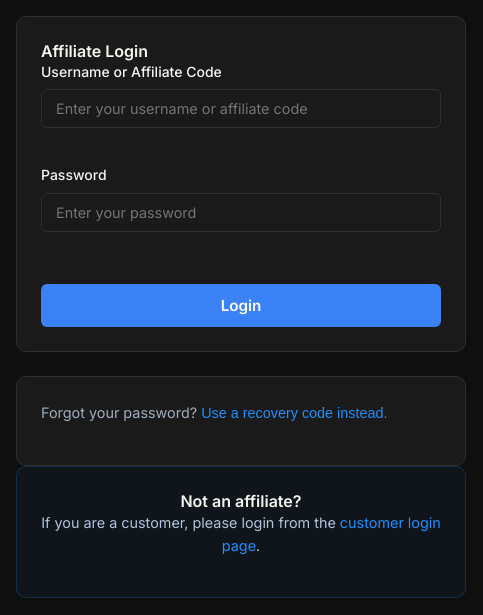
Test: affiliate.jsx — Affiliate Login Page › login form › sets loading state on submit
This screenshot has width=483, height=615.
Type "testuser" into the field with placeholder "Enter your username or affiliate code" at (241, 109), box [41, 89, 441, 128]
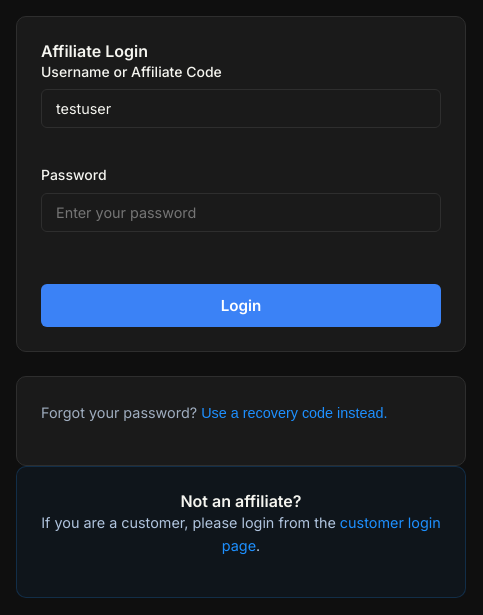
Type "testpass" into the password field with placeholder "Enter your password" at (241, 212), box [41, 193, 441, 232]
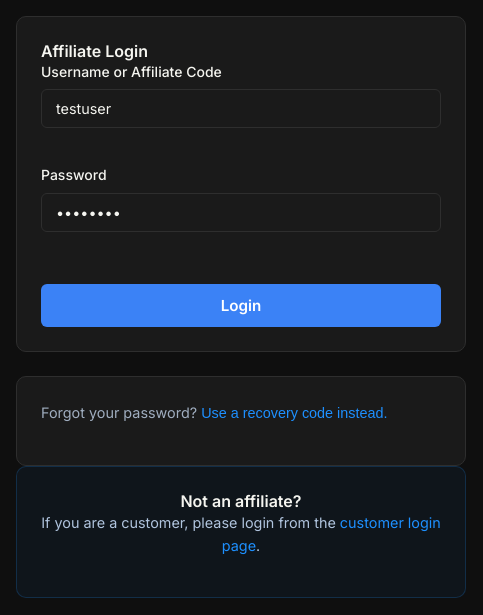
Click the button "Login" at (241, 305), box [41, 284, 441, 327]
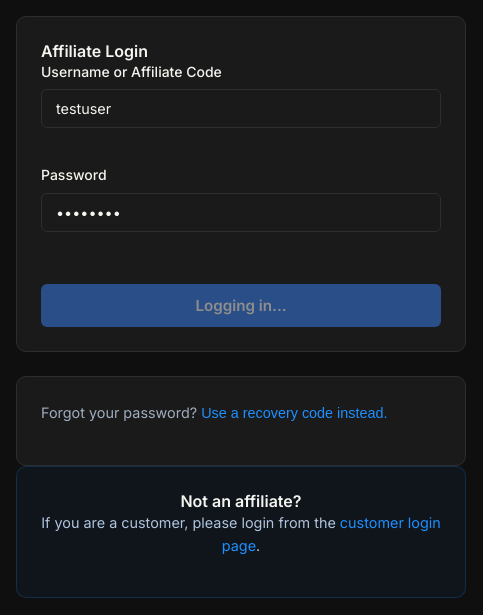
Expected: the button "Logging in..." is shown, [41, 284, 441, 327]
